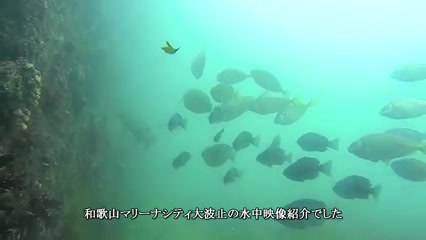smallfish: (329, 170, 385, 206), (281, 150, 335, 184), (293, 128, 344, 162), (247, 66, 291, 98), (214, 65, 252, 87)
